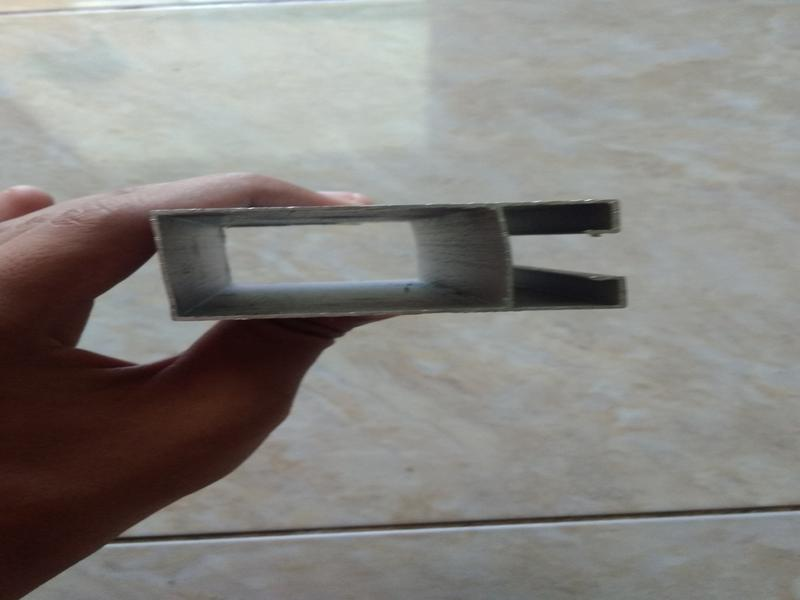Aluminium_1: (130, 179, 657, 325)
